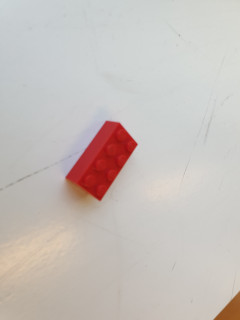2x4 red: (65, 119, 138, 202)
